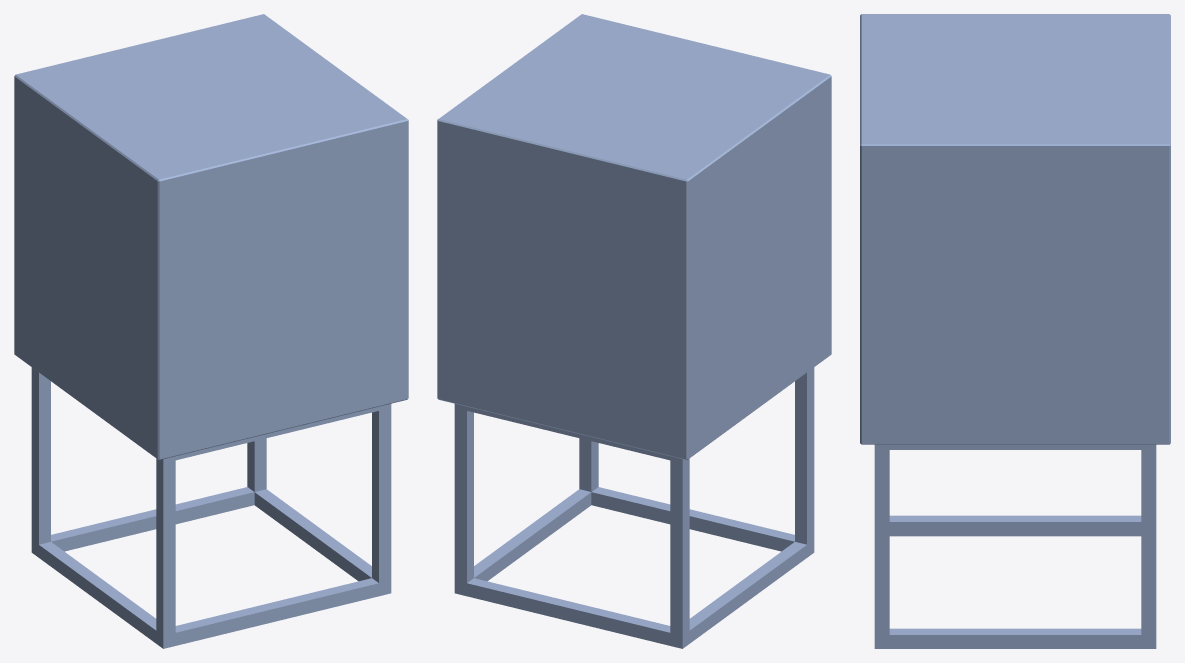
The model's file is Building_Roof_deco_1.fbx.
3 views of the same model, side by side, from view 1: azimuth 30°, elevation 25°; view 2: azimuth 150°, elevation 25°; view 3: azimuth 270°, elevation 25° (orthographic). The views are drawn at different scales.
Visible parts, largest first — view 1: Building_Roof_deco_1_p2, Building_Roof_deco_1_p1; view 2: Building_Roof_deco_1_p2, Building_Roof_deco_1_p1; view 3: Building_Roof_deco_1_p2, Building_Roof_deco_1_p1.
Part boxes in pixels (left/top/right/bottom): Building_Roof_deco_1_p2: left=14, top=14, right=408, bottom=460; Building_Roof_deco_1_p1: left=31, top=367, right=391, bottom=648; Building_Roof_deco_1_p2: left=437, top=14, right=831, bottom=460; Building_Roof_deco_1_p1: left=454, top=367, right=814, bottom=648; Building_Roof_deco_1_p2: left=860, top=14, right=1170, bottom=444; Building_Roof_deco_1_p1: left=874, top=444, right=1156, bottom=648.
Size of the model in its own units: 200 by 363 by 200.
